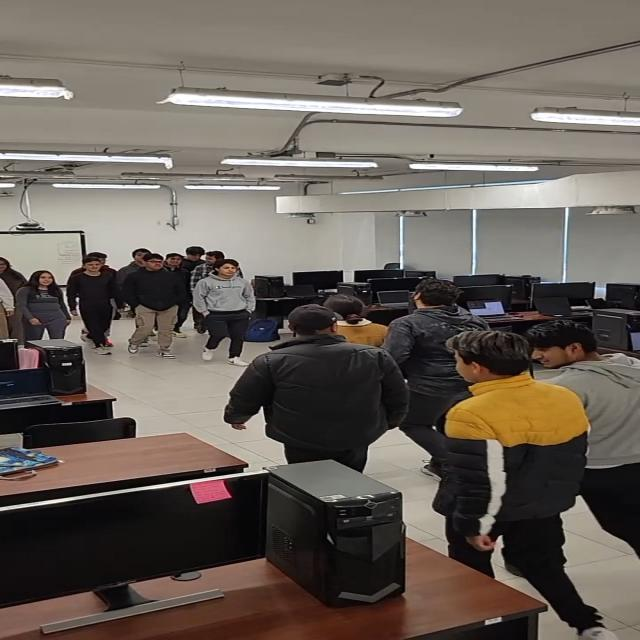Persona: (427, 328, 585, 583), (522, 318, 640, 528), (255, 310, 392, 471), (392, 272, 488, 410), (196, 260, 253, 360), (125, 258, 178, 353), (23, 266, 74, 352), (72, 258, 116, 348)
